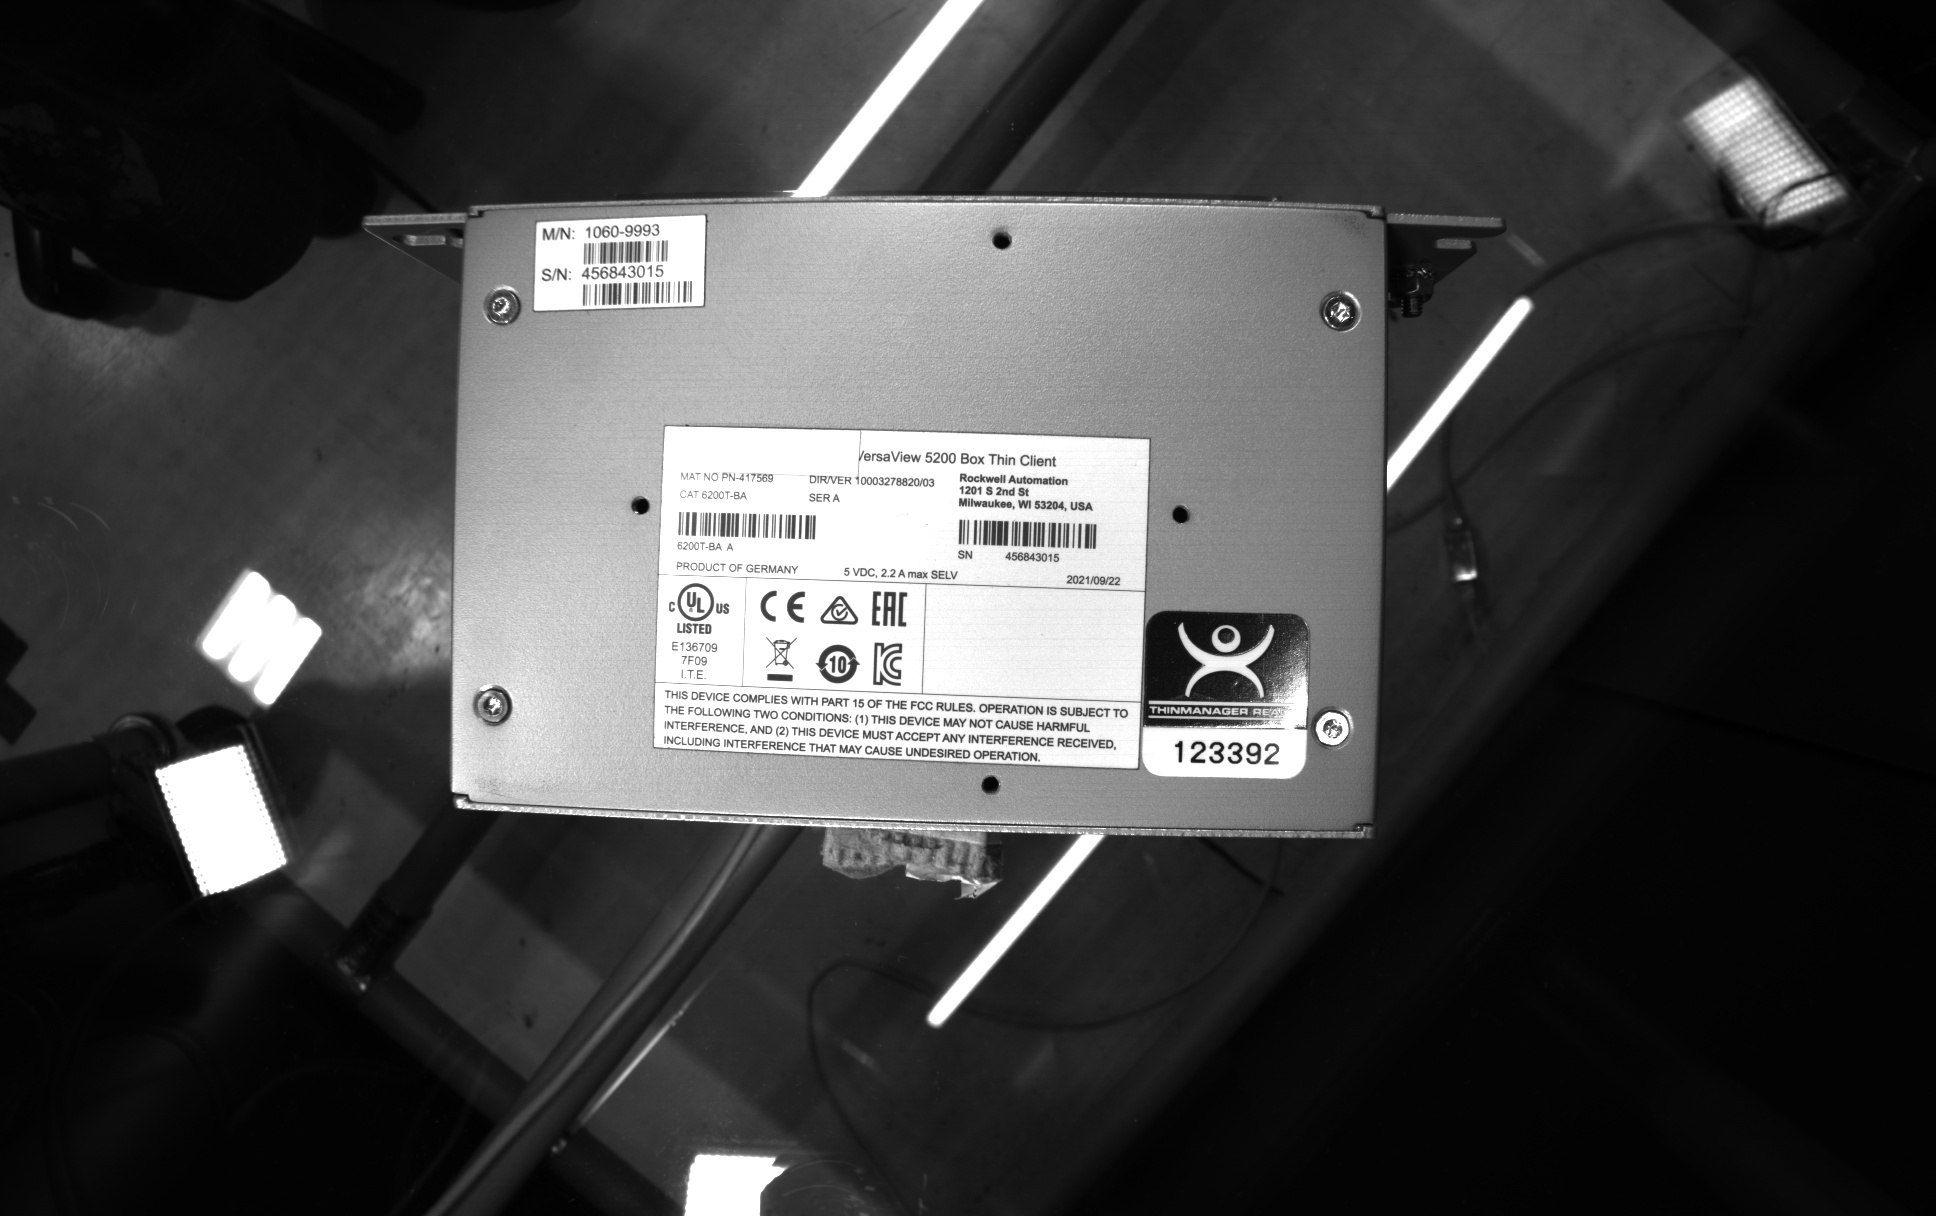Barcode: (948, 516, 1107, 556), (670, 504, 822, 544), (573, 273, 700, 315), (577, 233, 675, 270)
CamTop: (431, 184, 1411, 855)
Label_Seriennummer: (644, 409, 1159, 782)
Loch_Montage: (616, 479, 656, 524), (1161, 490, 1201, 532), (969, 768, 1011, 807), (983, 220, 1023, 256)
Schraube: (1313, 284, 1369, 338), (468, 678, 518, 734), (1308, 702, 1357, 756), (478, 280, 528, 332)
